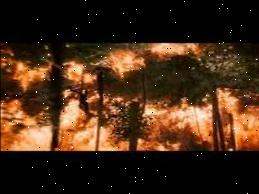fire: (0, 43, 259, 152)
